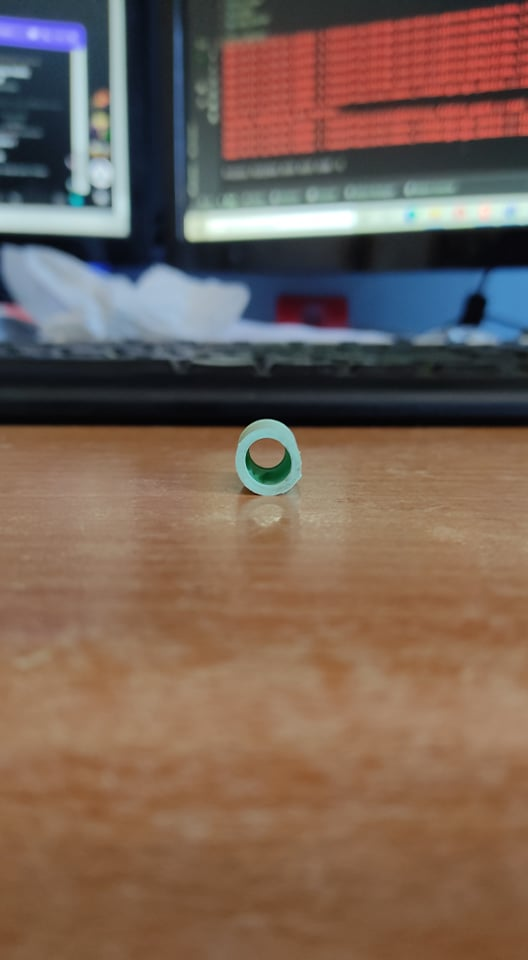green_bucking: (221, 408, 312, 505)
